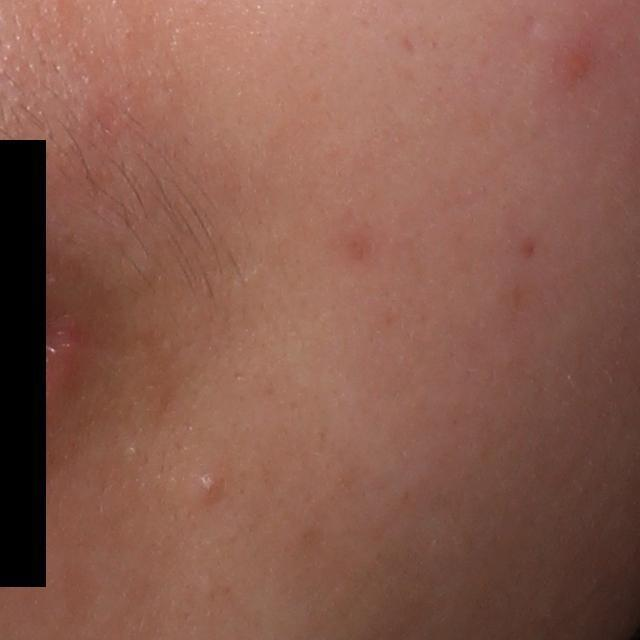atrophic_scar: (520, 15, 538, 38)
comedo: (189, 465, 223, 499)
papule: (551, 41, 599, 90)
